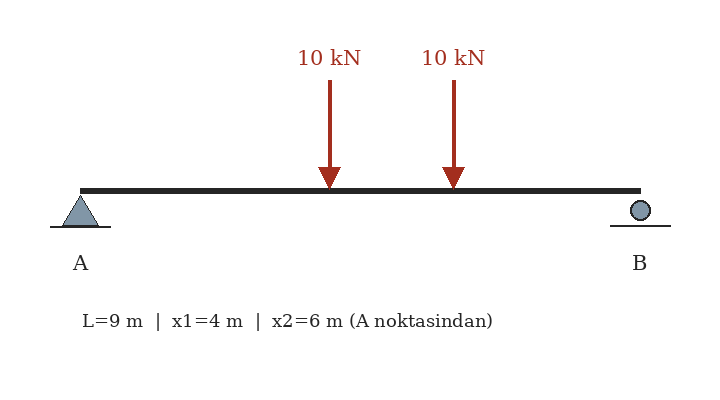pin_support: (61, 190, 99, 226)
point_load: (315, 76, 343, 190), (439, 76, 467, 190)
roller_support: (625, 196, 655, 227)
